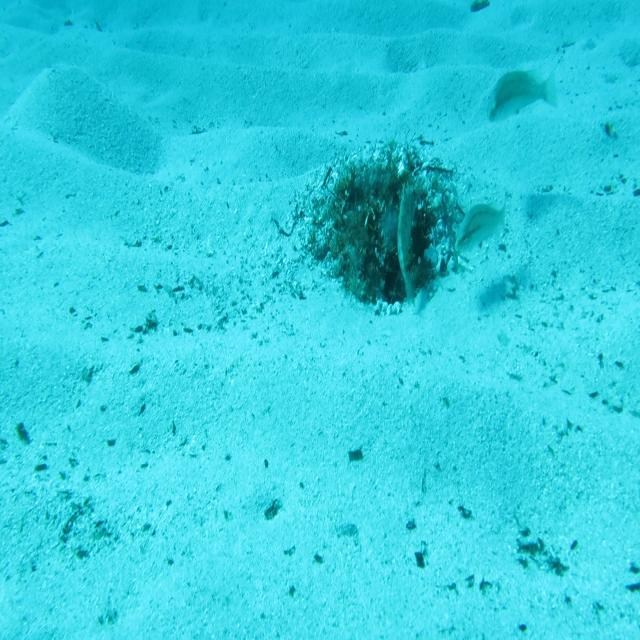FAN: (394, 182, 422, 310)
core_nest: (358, 182, 401, 213)
female: (486, 68, 559, 124), (454, 196, 508, 258)
nest: (290, 138, 476, 320)
